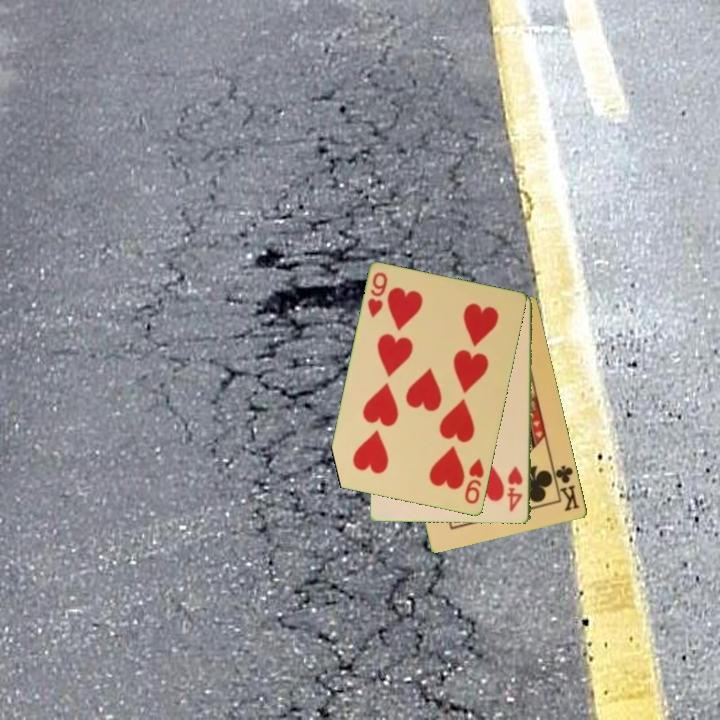4h: (505, 463, 526, 515)
9h: (364, 269, 391, 321), (461, 455, 487, 507)
Kc: (550, 462, 583, 514)
